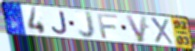4: (27, 6, 47, 36)
F: (96, 13, 120, 40)
J: (77, 10, 97, 40), (51, 10, 69, 36)
V: (124, 14, 149, 44)
X: (149, 17, 175, 46)
